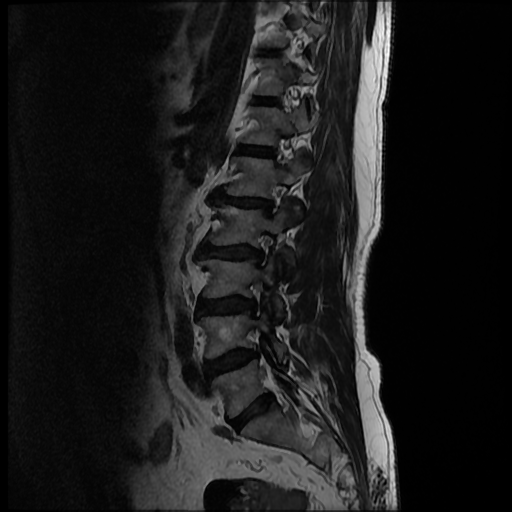LFS1: (253, 176, 291, 224), (240, 227, 278, 272), (240, 275, 275, 322)
